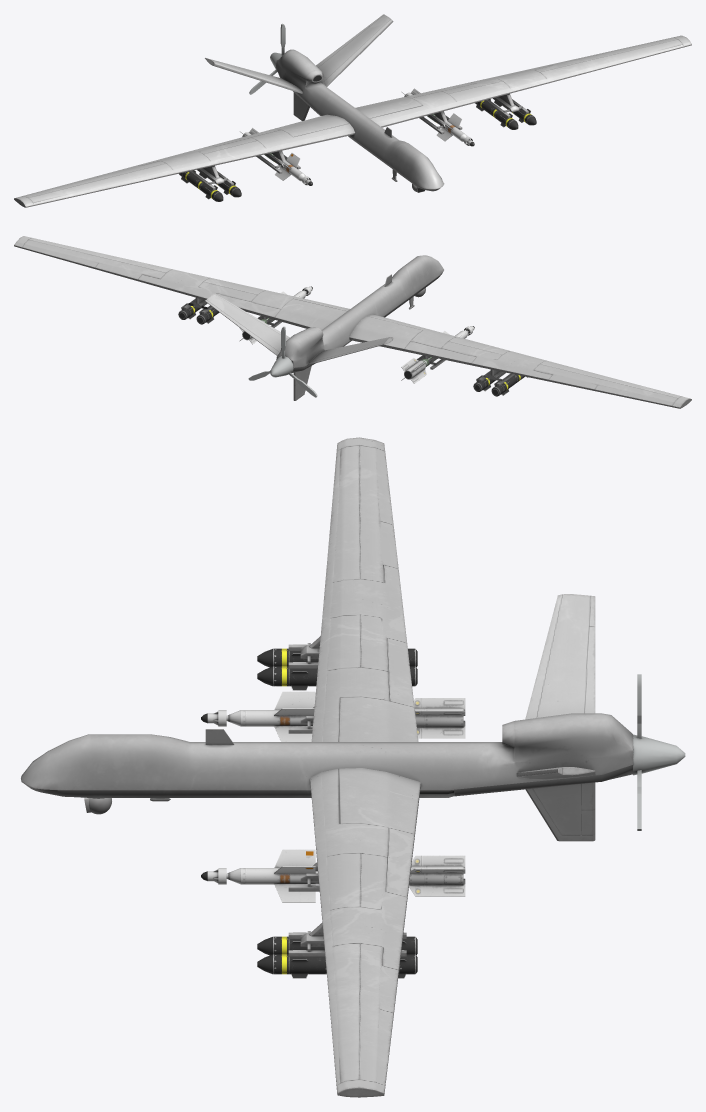
File: MQ9_NoRigged.fbx
The picture shows the model from 3 angles, top to bottom: view 1: azimuth 30°, elevation 25°; view 2: azimuth 150°, elevation 25°; view 3: azimuth 270°, elevation 25°; orthographic projection. The views are drawn at different scales.
Visible parts, largest first — view 1: MQ9, GBU12-R, GBU12-L, AGM114-R1, AGM114-L2, Propeller, MQ9_MissilePodR1, MQ9_MissilePodL1; view 2: MQ9, Propeller, GBU12-R, AGM114-R1, GBU12-L; view 3: MQ9, GBU12-L, GBU12-R, Propeller, AGM114-L1, AGM114-R2, AGM114-L2.
Part boxes in pixels (x1=…): MQ9: x1=14, y1=14, x2=691, y2=207; GBU12-R: x1=239, y1=128, x2=312, y2=185; GBU12-L: x1=401, y1=88, x2=474, y2=146; AGM114-R1: x1=179, y1=170, x2=223, y2=201; AGM114-L2: x1=475, y1=99, x2=518, y2=129; Propeller: x1=249, y1=23, x2=285, y2=94; MQ9_MissilePodR1: x1=188, y1=168, x2=233, y2=189; MQ9_MissilePodL1: x1=484, y1=96, x2=528, y2=117; MQ9: x1=14, y1=236, x2=691, y2=408; Propeller: x1=248, y1=326, x2=317, y2=397; GBU12-R: x1=401, y1=326, x2=474, y2=383; AGM114-R1: x1=491, y1=374, x2=527, y2=396; GBU12-L: x1=239, y1=286, x2=312, y2=344; MQ9: x1=21, y1=437, x2=632, y2=1097; GBU12-L: x1=201, y1=849, x2=465, y2=902; GBU12-R: x1=201, y1=691, x2=465, y2=741; Propeller: x1=633, y1=674, x2=685, y2=830; AGM114-L1: x1=257, y1=950, x2=417, y2=978; AGM114-R2: x1=257, y1=662, x2=417, y2=690; AGM114-L2: x1=257, y1=932, x2=417, y2=955.
Bounding box in the file's own units: 1800 × 212 × 777.
